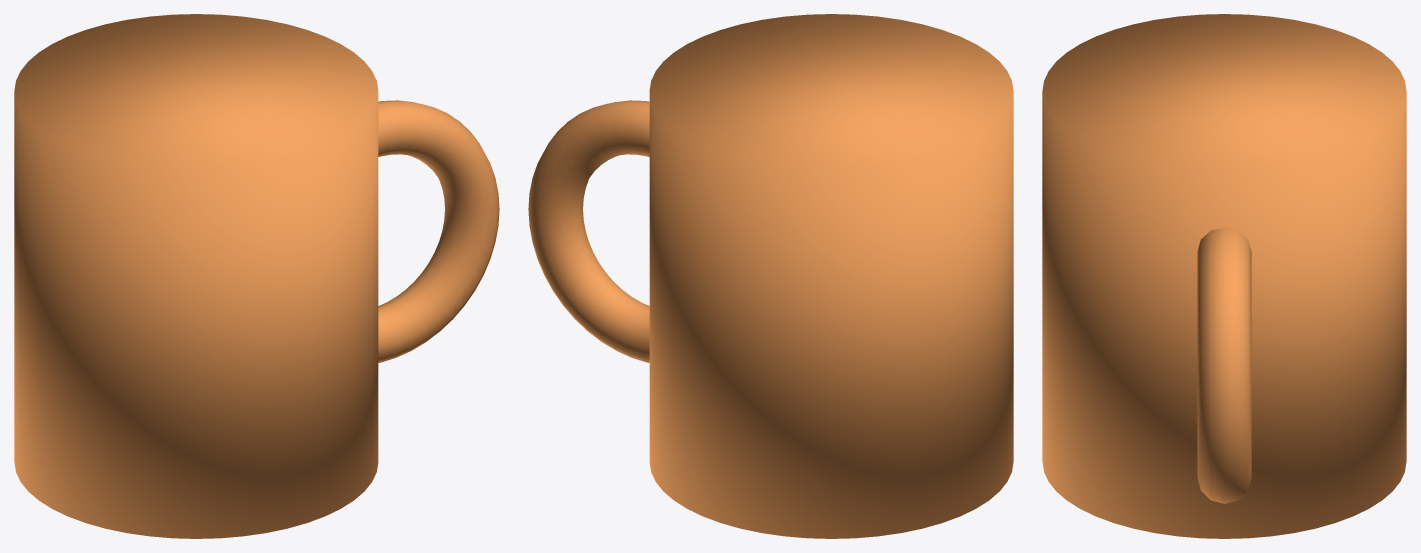
The model's file is mug.glb.
3 views of the same model, side by side, from view 1: azimuth 30°, elevation 25°; view 2: azimuth 150°, elevation 25°; view 3: azimuth 270°, elevation 25° (orthographic).
Parts seen in each view (by area): view 1: Cylinder, Torus; view 2: Cylinder, Torus; view 3: Cylinder, Torus.
Boxes of the visible parts, left/top/right/bottom form: Cylinder: left=14, top=14, right=378, bottom=538; Torus: left=378, top=100, right=499, bottom=362; Cylinder: left=649, top=14, right=1013, bottom=538; Torus: left=528, top=100, right=649, bottom=362; Cylinder: left=1042, top=14, right=1406, bottom=538; Torus: left=1197, top=227, right=1251, bottom=503.
Size of the model in its own units: 0.116 by 0.09 by 0.08.
